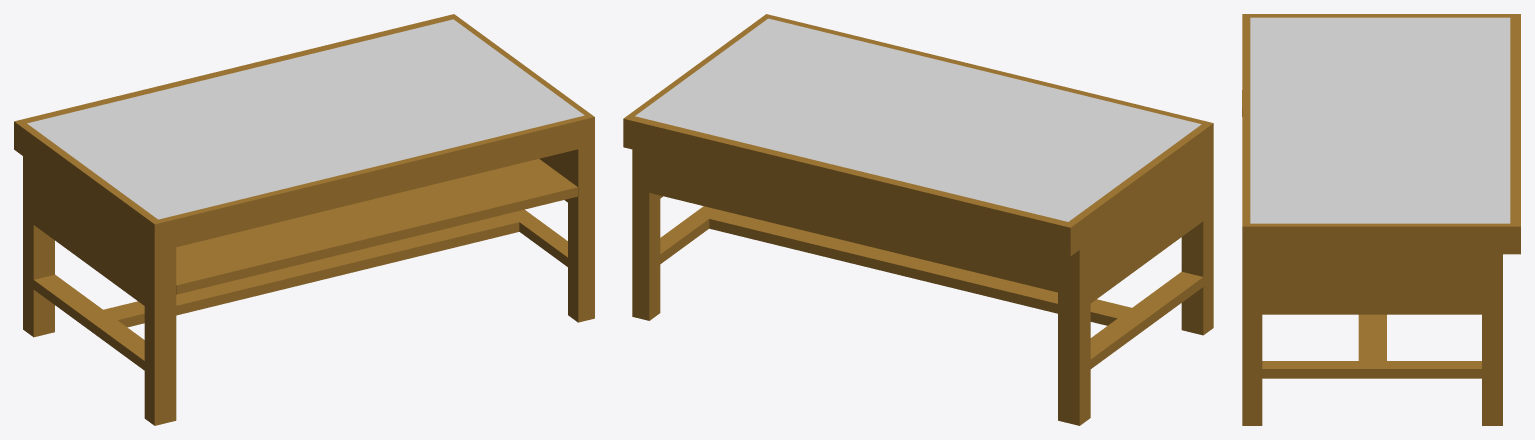
The model's file is Meja Tele.fbx.
3 views of the same model, side by side, from view 1: azimuth 30°, elevation 25°; view 2: azimuth 150°, elevation 25°; view 3: azimuth 270°, elevation 25° (orthographic). The views are drawn at different scales.
Visible parts, largest first — view 1: pCube1, pCube2, pCube4; view 2: pCube1, pCube2, pCube4; view 3: pCube1, pCube3, pCube2.
Part boxes in pixels (x1,y1,x2,y2): pCube1: [14, 14, 594, 425]; pCube2: [33, 209, 567, 370]; pCube4: [33, 164, 144, 305]; pCube1: [623, 14, 1213, 425]; pCube2: [660, 206, 1203, 368]; pCube4: [1090, 159, 1203, 303]; pCube1: [1242, 14, 1520, 425]; pCube3: [1262, 254, 1481, 314]; pCube2: [1262, 314, 1481, 378].
Bounding box in the file's own units: 2.33 × 1.02 × 1.29.
